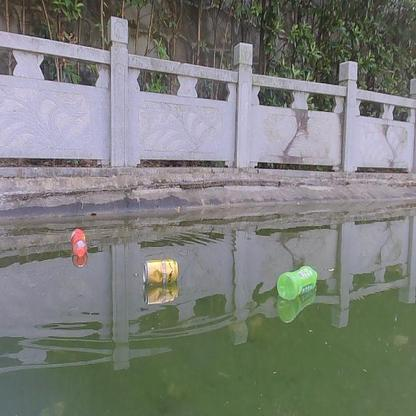can: (142, 259, 178, 284)
plastic bottle: (276, 265, 319, 296), (71, 226, 86, 259)
